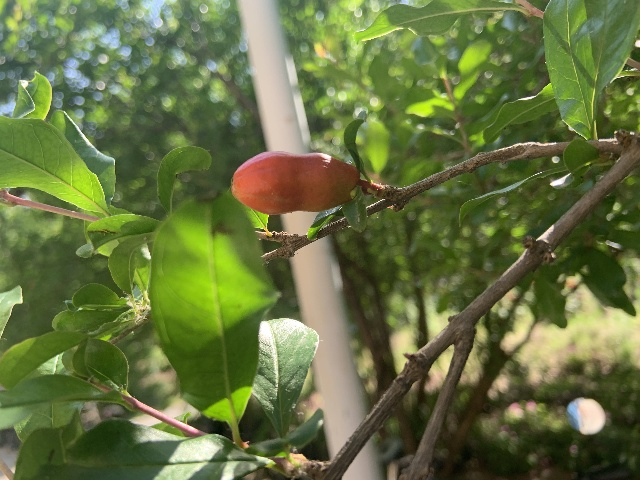bud: (231, 150, 358, 214)
